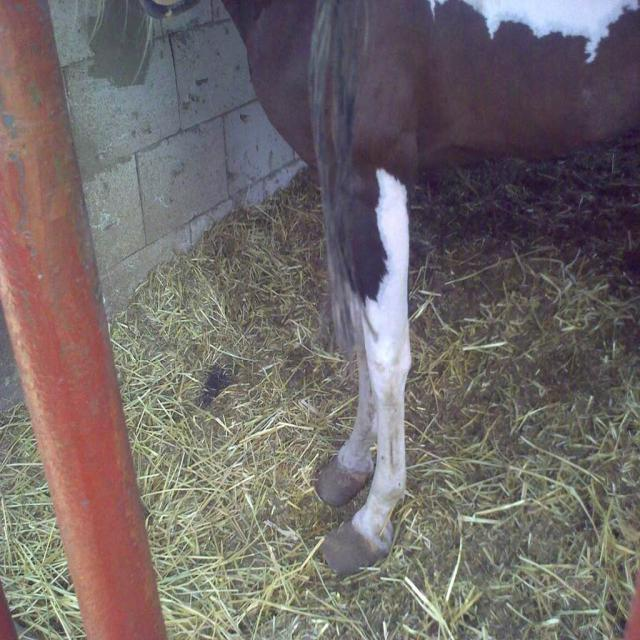Horse: (74, 0, 640, 572)
